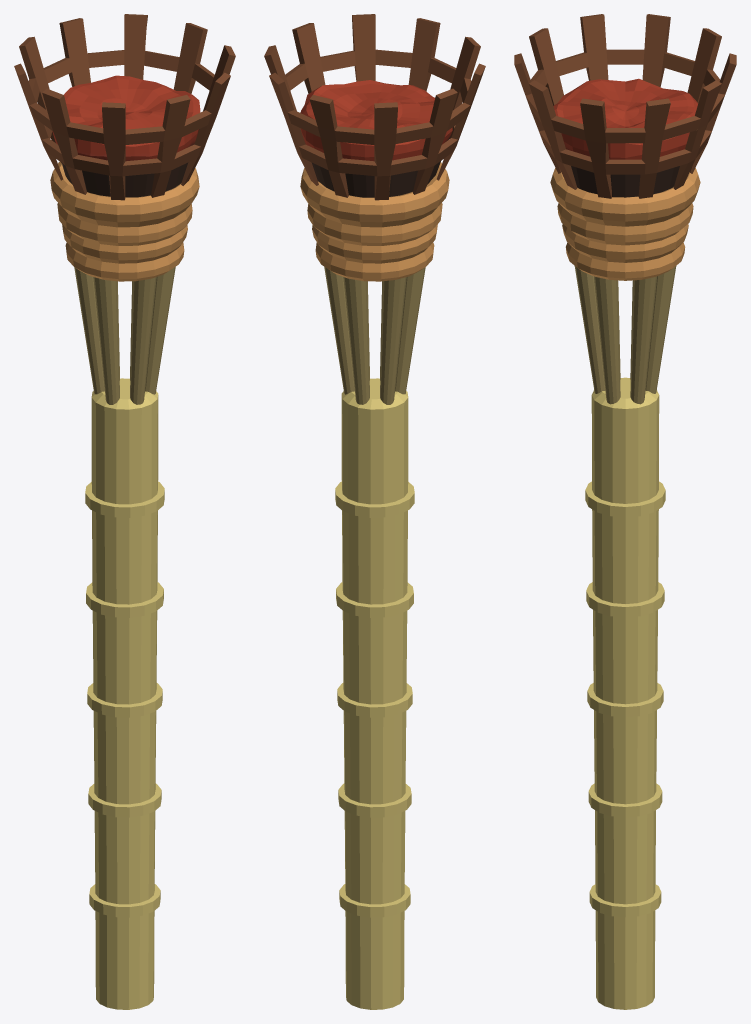
Rendered from tiki_torch.fbx.
The picture shows the model from 3 angles, left to right: view 1: azimuth 30°, elevation 25°; view 2: azimuth 150°, elevation 25°; view 3: azimuth 270°, elevation 25°; orthographic projection.
Parts seen in each view (by area): view 1: Cylinder, Torus, Circle, Cylinder.001, Cylinder.002, Cylinder.003, Cylinder.005; view 2: Cylinder, Torus, Circle, Cylinder.003, Cylinder.004, Cylinder.002, Cylinder.006; view 3: Cylinder, Torus, Circle, Cylinder.005, Cylinder.006, Cylinder.001, Cylinder.004.
Boxes of the visible parts, x1,y1,x2,y2 form: Cylinder: (85,378,164,1009); Torus: (14,14,235,281); Circle: (52,75,200,197); Cylinder.001: (130,277,156,404); Cylinder.002: (93,277,119,404); Cylinder.003: (74,267,104,394); Cylinder.005: (145,267,175,394); Cylinder: (335,378,414,1009); Torus: (264,14,485,281); Circle: (300,80,452,197); Cylinder.003: (380,277,406,404); Cylinder.004: (343,277,369,404); Cylinder.002: (395,267,425,394); Cylinder.006: (324,267,354,394); Cylinder: (585,377,665,1009); Torus: (514,14,736,280); Circle: (553,78,698,197); Cylinder.005: (594,276,620,404); Cylinder.006: (630,276,656,404); Cylinder.001: (574,266,605,393); Cylinder.004: (645,266,676,393).
Bounding box in the file's own units: 186 × 884 × 189.
